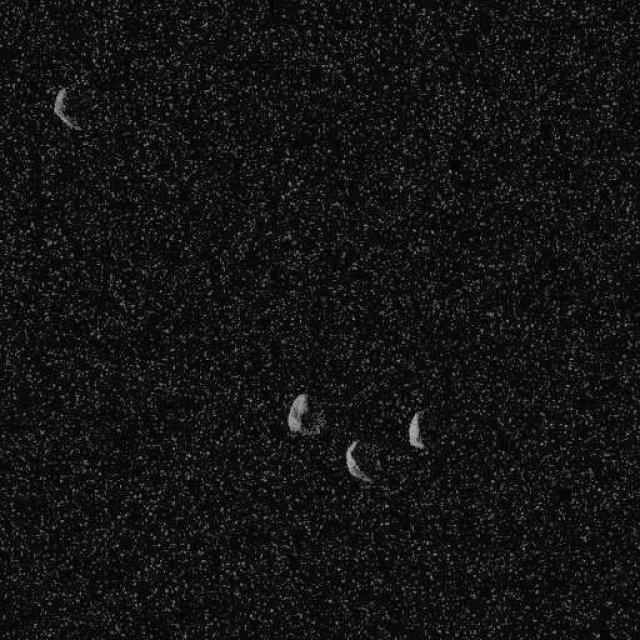D2: (51, 85, 84, 131), (344, 438, 375, 483), (286, 391, 309, 434), (406, 409, 426, 450)
